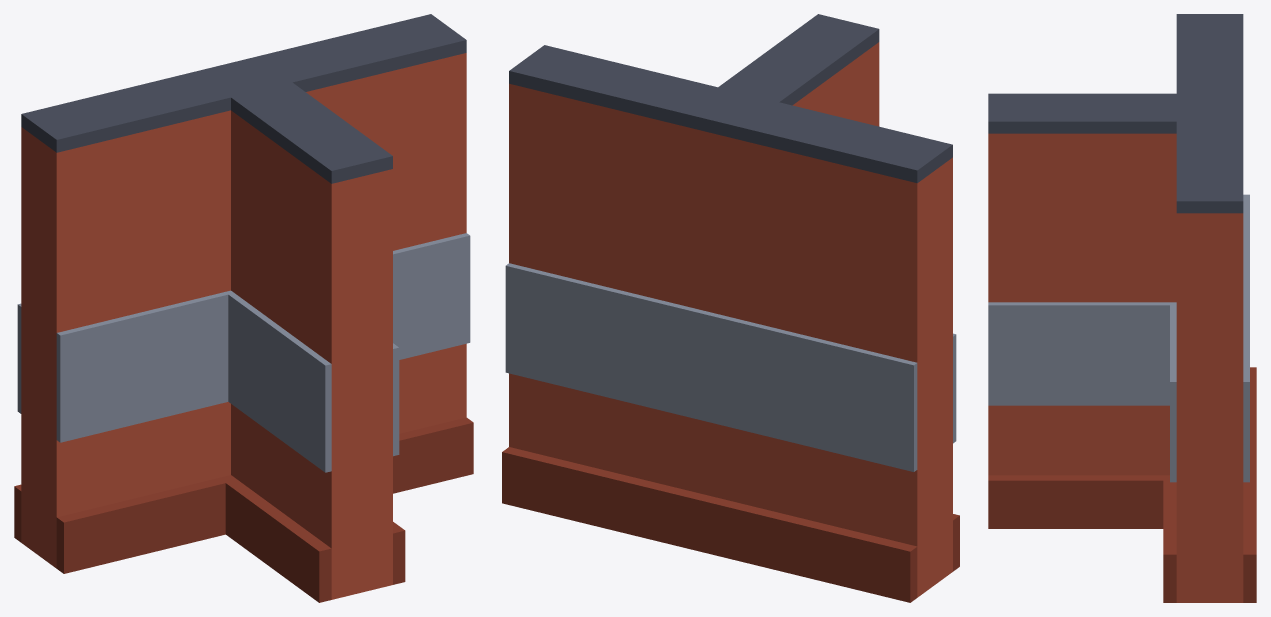
Rendered from partition-full-tee.glb.
3 renders of one model, left to right at view 1: azimuth 30°, elevation 25°; view 2: azimuth 150°, elevation 25°; view 3: azimuth 270°, elevation 25°, orthographic. The views are drawn at different scales.
Visible parts, largest first — view 1: partition-full-tee; view 2: partition-full-tee; view 3: partition-full-tee.
Part boxes in pixels (bbox=[...]): partition-full-tee: bbox=[14, 14, 473, 602]; partition-full-tee: bbox=[502, 14, 959, 602]; partition-full-tee: bbox=[988, 14, 1256, 602].
Bounding box in the file's own units: 1 × 1 × 0.605.
Materials: 1 (1 with a texture image).
